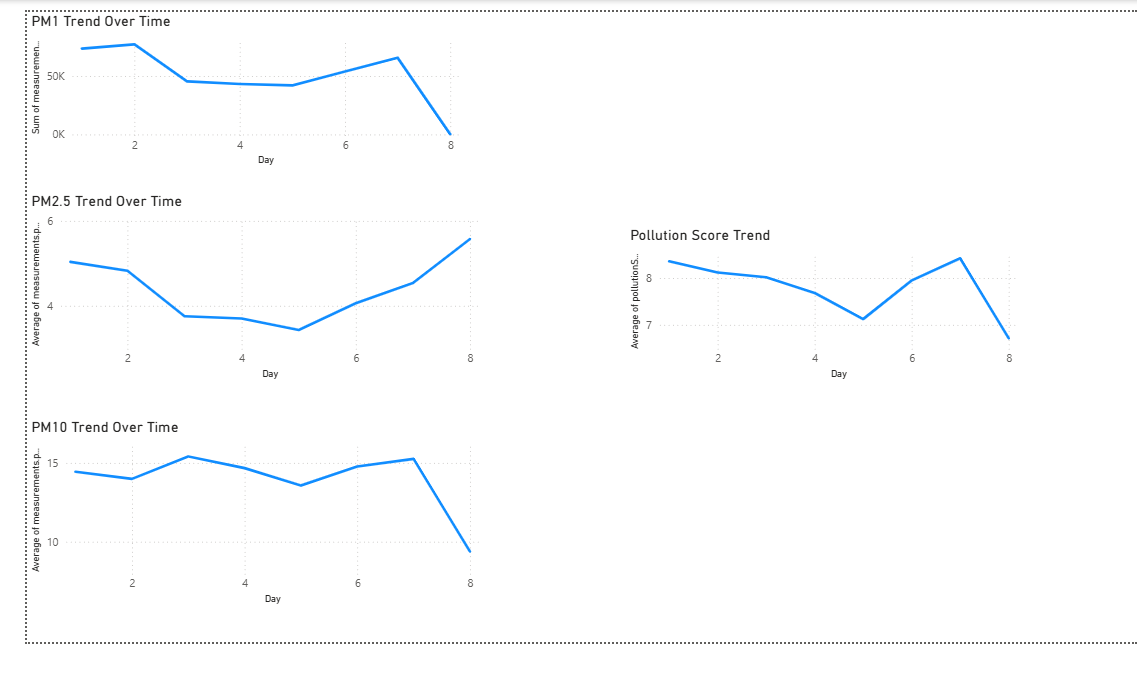

Layout of this report page (visuals, bound fields, positions):
{"tool":"powerbi","page":{"name":"Trends Over Time","canvas":[1280,720],"ordinal":2},"visuals":[{"type":"lineChart","title":"Pollution Score Trend","fields":{"Category":["MongoSensorReadings.timestamp.Variation.Date Hierarchy.Day"],"Y":["Avg(MongoSensorReadings.pollutionScore)"]},"box":[684.3,244.3,452.9,180],"z":0},{"type":"lineChart","title":"PM2.5 Trend Over Time","fields":{"Category":["MongoSensorReadings.timestamp.Variation.Date Hierarchy.Day"],"Y":["Avg(MongoSensorReadings.measurements.pm25)"]},"box":[0,205.7,521.4,218.6],"z":1},{"type":"lineChart","title":"PM10 Trend Over Time","fields":{"Category":["MongoSensorReadings.timestamp.Variation.Date Hierarchy.Day"],"Y":["Avg(MongoSensorReadings.measurements.pm10)"]},"box":[0,464.3,521.4,217.1],"z":2},{"type":"lineChart","title":"PM1 Trend Over Time","fields":{"Category":["MongoSensorReadings.timestamp.Variation.Date Hierarchy.Day"],"Y":["Sum(MongoSensorReadings.measurements.pm1)"]},"box":[0,0,499,180],"z":3}]}

Visuals, with their boxes on the page's 1280x720 design canvas (x1, y1, x2, y2). These are canvas units, not pixel positions in the 1137x676 screenshot, which may show the page scaled, cropped or inside an application window:
"Pollution Score Trend" lineChart: [684,244,1137,424]
"PM2.5 Trend Over Time" lineChart: [0,206,521,424]
"PM10 Trend Over Time" lineChart: [0,464,521,681]
"PM1 Trend Over Time" lineChart: [0,0,499,180]
